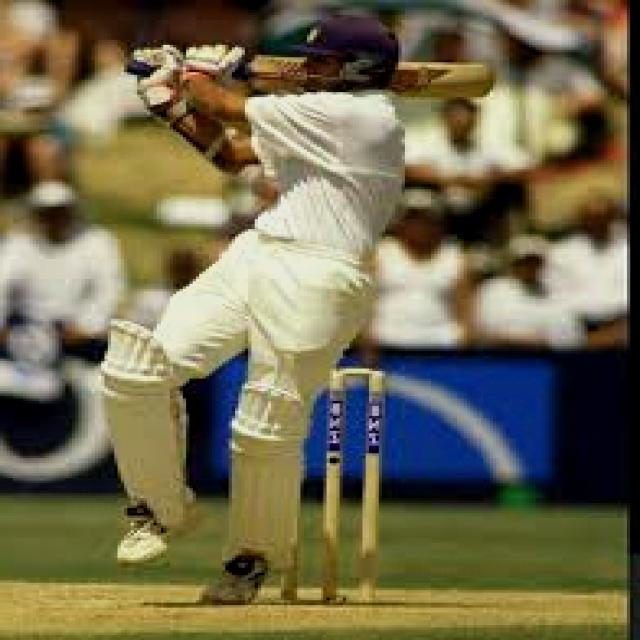toe: (471, 59, 496, 101)
